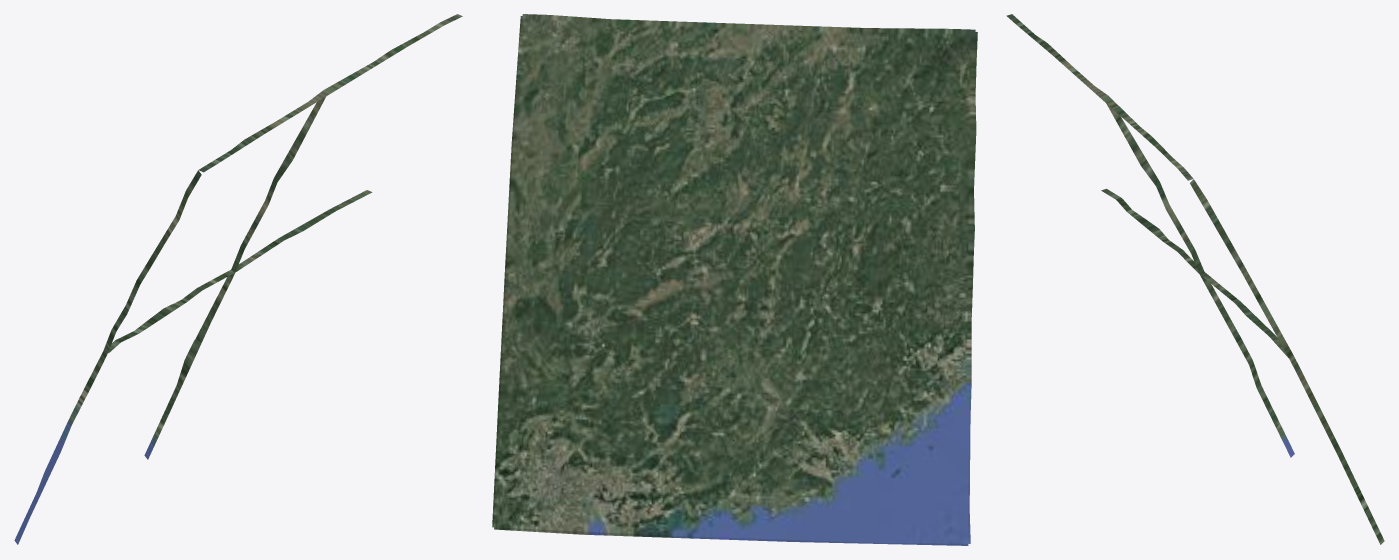
3 renders of one model, left to right at view 1: azimuth 30°, elevation 25°; view 2: azimuth 150°, elevation 25°; view 3: azimuth 270°, elevation 25°, orthographic. The views are drawn at different scales.
Bounding box in the file's own units: 632516 × 572541 × 489343.
1 material, 1 textured.
